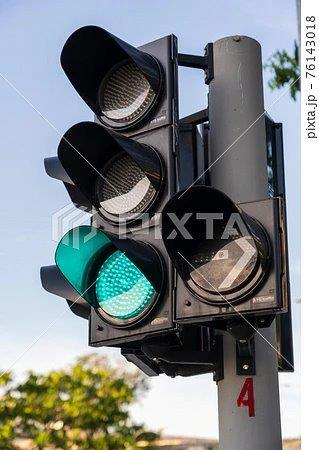cars: (55, 26, 177, 346)
